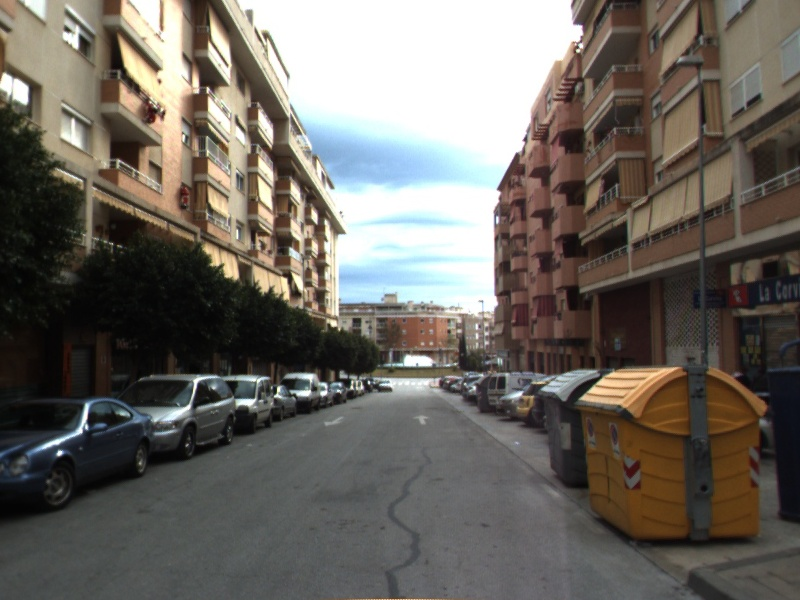STRAIGHT: (411, 413, 431, 426)
